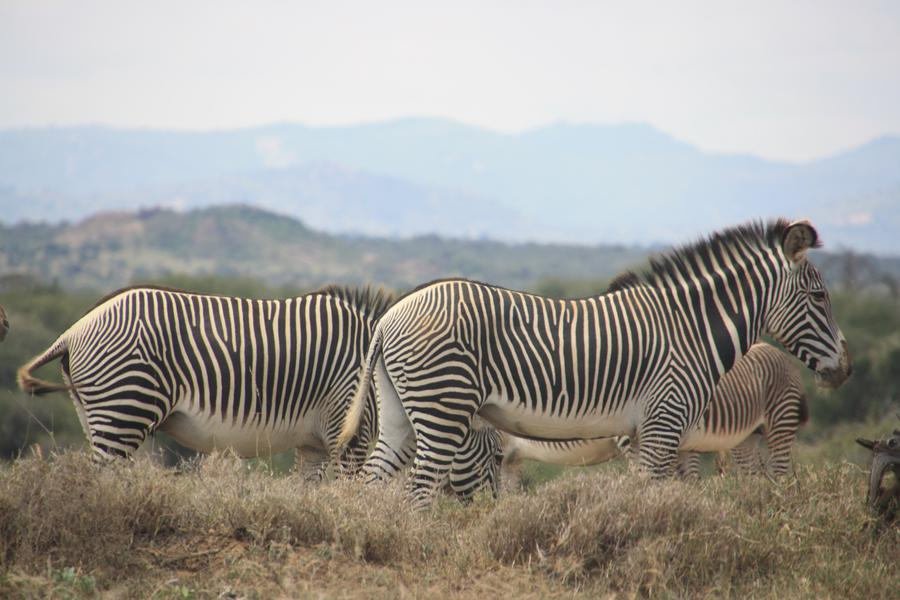zebra_grevys: (377, 267, 696, 424), (50, 265, 350, 418)
